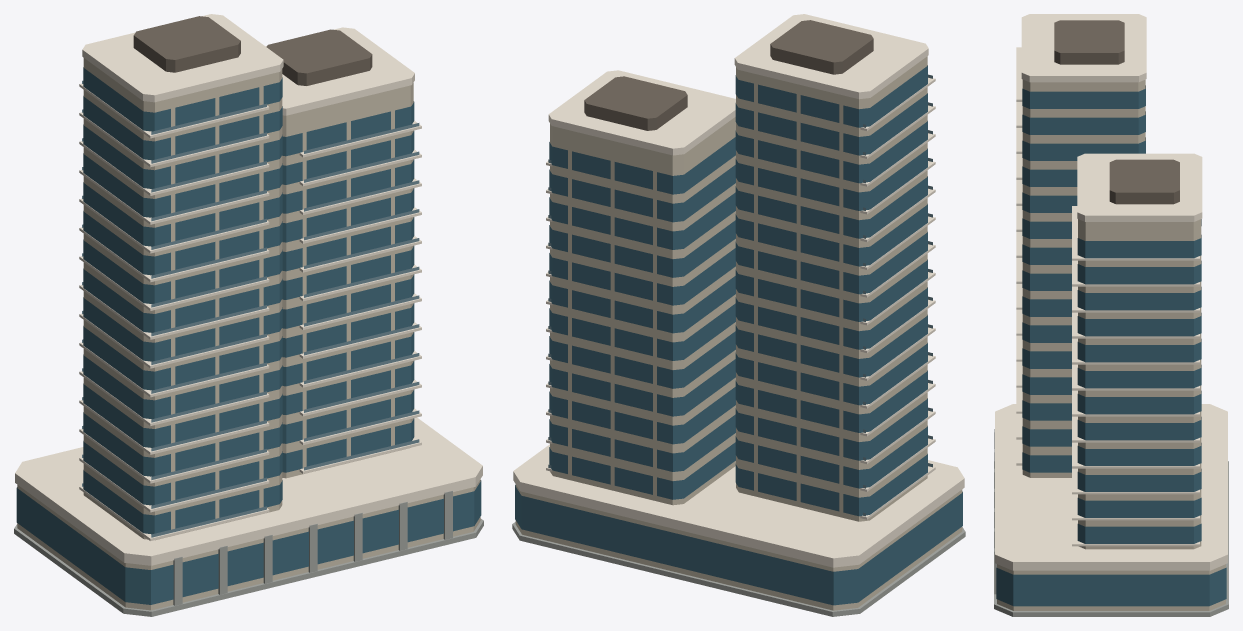
Rendered from building_condo.glb.
The picture shows the model from 3 angles, left to right: view 1: azimuth 30°, elevation 25°; view 2: azimuth 150°, elevation 25°; view 3: azimuth 270°, elevation 25°; orthographic projection. The views are drawn at different scales.
Visible parts, largest first — view 1: building_condo; view 2: building_condo; view 3: building_condo.
Boxes of the visible parts, <box> form: building_condo: <box>14,14,483,616</box>; building_condo: <box>512,14,965,616</box>; building_condo: <box>994,14,1228,616</box>.
Bounding box in the file's own units: 40 × 55 × 25.
